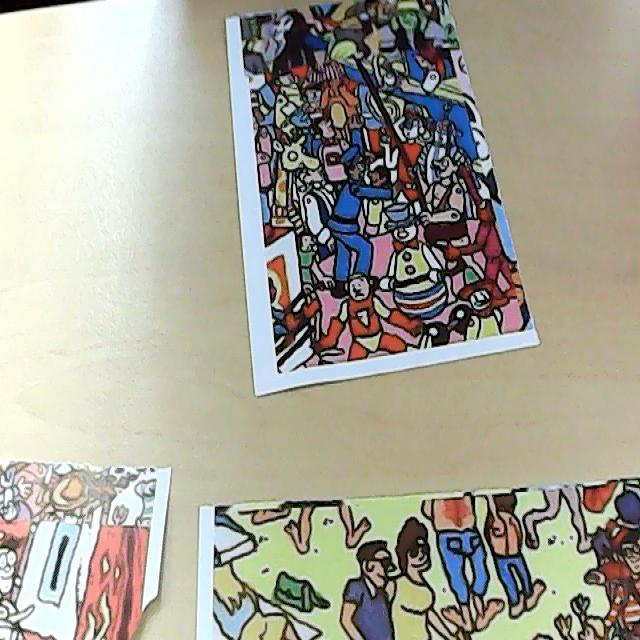waldo: (605, 517, 640, 573), (0, 521, 23, 600), (301, 78, 324, 114)
